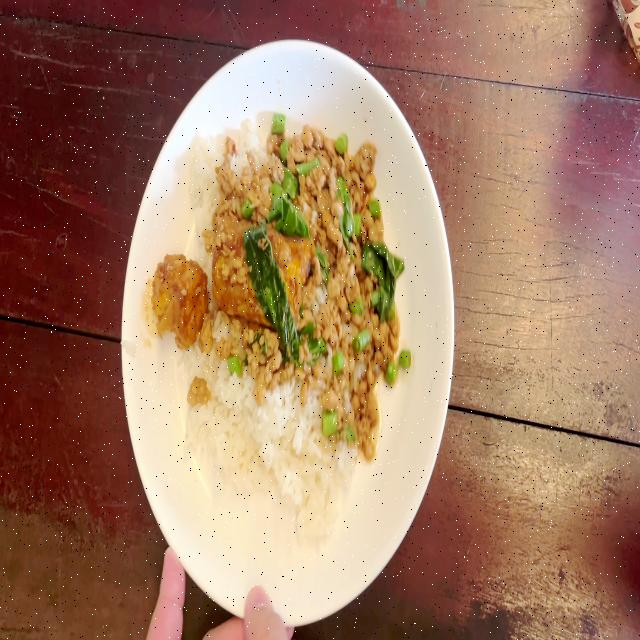fried_tofo: (217, 222, 307, 318), (154, 252, 204, 341)
minced_pork: (308, 222, 400, 460), (241, 119, 392, 224), (221, 316, 311, 376), (221, 142, 239, 217)
rice: (181, 380, 307, 486), (280, 460, 358, 549), (187, 128, 217, 232)
stir_fried_basil: (157, 119, 411, 533)
